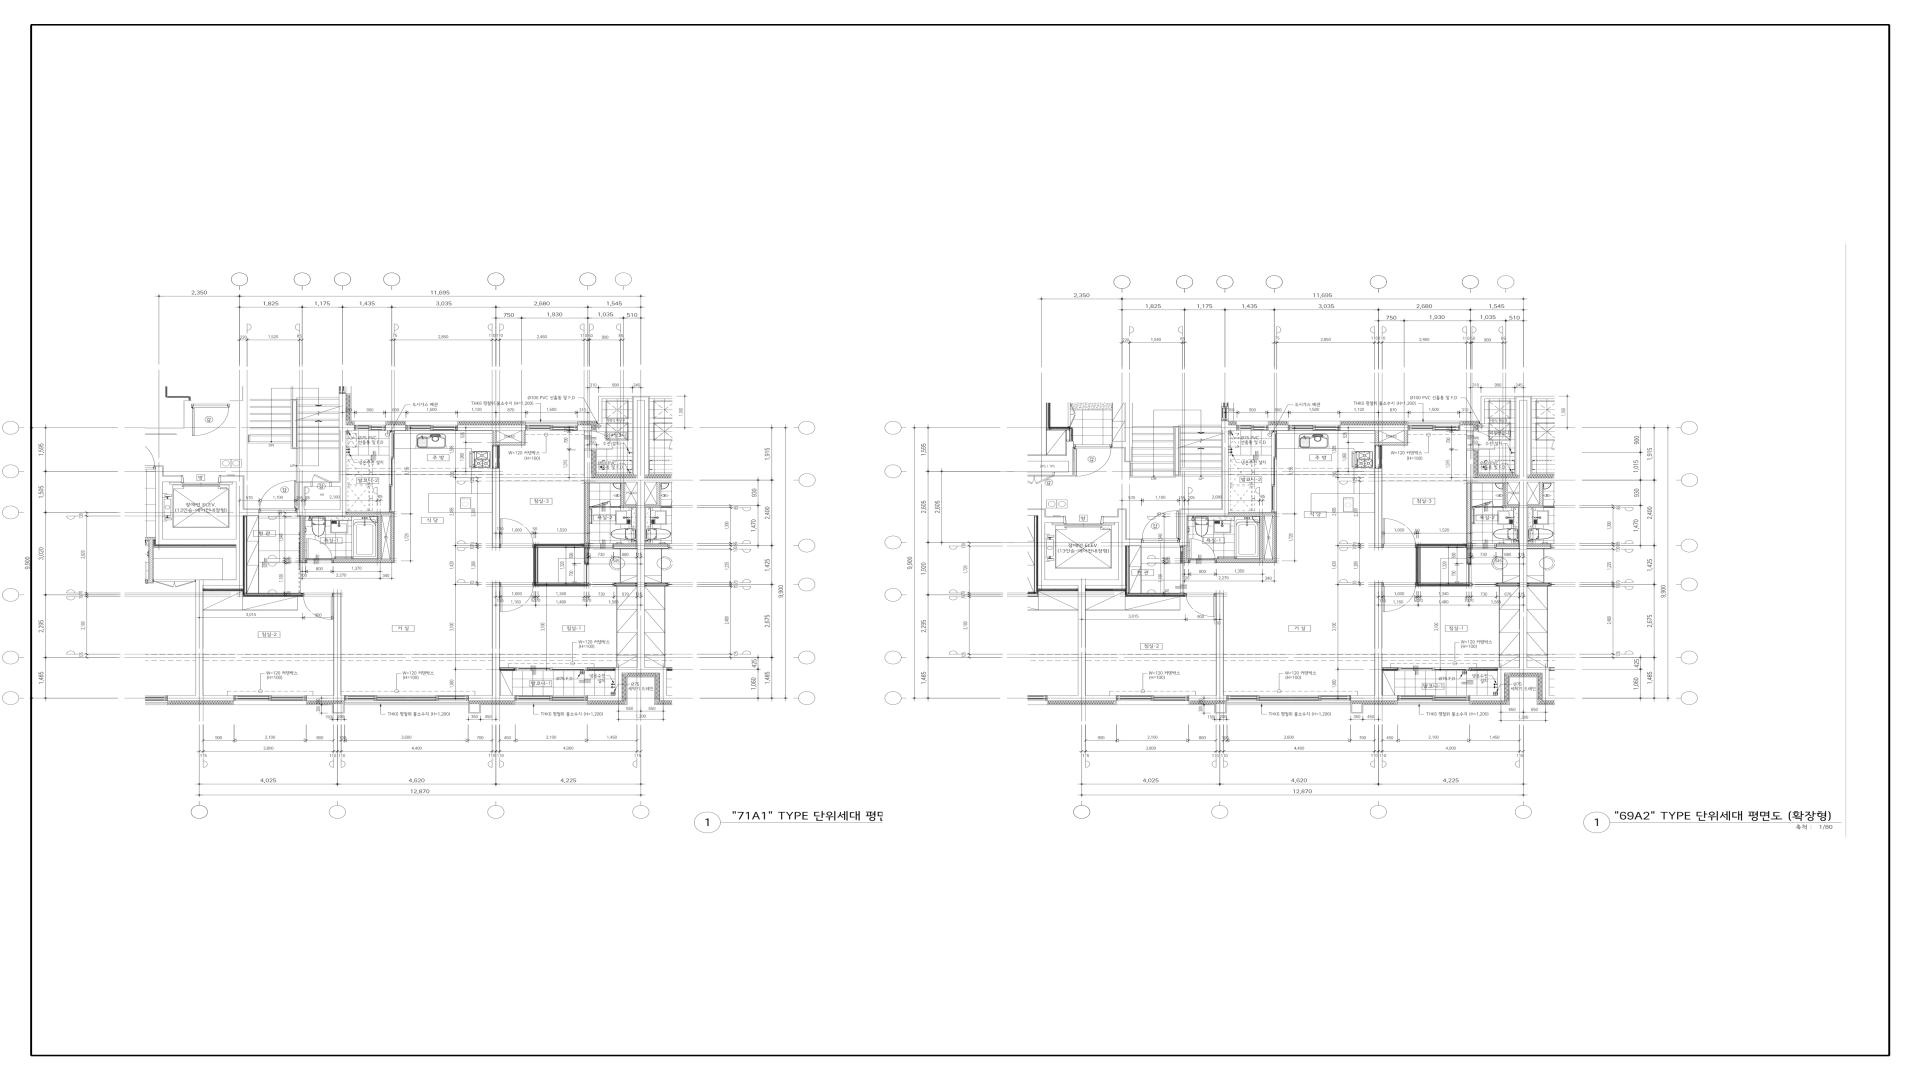door: (1073, 442, 1112, 477), (1142, 510, 1180, 546), (191, 401, 229, 435), (258, 480, 297, 513), (500, 583, 534, 612), (500, 518, 534, 547), (1382, 583, 1416, 612), (1382, 518, 1416, 547), (1184, 593, 1216, 622), (302, 593, 334, 622), (306, 538, 332, 563), (584, 430, 613, 450), (1466, 430, 1495, 450), (1271, 430, 1278, 512), (1188, 541, 1212, 563), (389, 431, 394, 512), (153, 580, 195, 588), (516, 667, 587, 671), (311, 473, 330, 487), (588, 583, 637, 587), (1466, 547, 1472, 583), (1472, 583, 1519, 587), (591, 500, 611, 508), (1474, 500, 1494, 508), (584, 547, 588, 584), (1473, 543, 1495, 547), (591, 543, 613, 547)
wall: (243, 516, 302, 596), (1027, 509, 1077, 585), (1125, 546, 1184, 597), (1523, 396, 1557, 480), (1212, 516, 1273, 563), (1470, 667, 1555, 700), (588, 667, 673, 700), (588, 673, 673, 705), (641, 396, 674, 480), (332, 516, 390, 563), (1228, 512, 1276, 563), (345, 512, 394, 563), (534, 543, 589, 585), (162, 516, 243, 545), (1415, 547, 1472, 587), (156, 465, 181, 545), (340, 393, 355, 516), (1466, 450, 1519, 483), (584, 450, 637, 483), (203, 545, 243, 585), (1027, 442, 1073, 476), (145, 401, 191, 435), (1085, 546, 1125, 585), (220, 475, 258, 516), (1221, 421, 1237, 516), (1104, 509, 1142, 546), (1519, 508, 1527, 667), (637, 508, 645, 667), (1112, 402, 1133, 462), (330, 393, 343, 487), (229, 386, 251, 435), (596, 396, 633, 423), (1480, 396, 1515, 423), (1077, 580, 1085, 695), (195, 580, 203, 695), (1374, 583, 1382, 695), (492, 583, 500, 695), (1216, 593, 1224, 695), (334, 593, 342, 695), (1515, 396, 1523, 480), (633, 396, 641, 480), (492, 468, 500, 547), (468, 700, 516, 713), (1350, 700, 1398, 713), (1374, 468, 1382, 547), (492, 430, 526, 446), (1375, 430, 1408, 446), (306, 700, 344, 713), (1188, 700, 1226, 713), (145, 538, 156, 583), (1050, 695, 1116, 702), (167, 695, 233, 702), (1466, 483, 1473, 547), (584, 483, 591, 547), (298, 481, 311, 510), (1527, 483, 1543, 506), (621, 483, 637, 506), (645, 483, 661, 506), (1340, 425, 1408, 430), (458, 425, 526, 430), (1505, 483, 1519, 506), (1174, 426, 1180, 476), (291, 400, 298, 448), (299, 516, 306, 563), (345, 393, 355, 425), (1179, 509, 1222, 516), (297, 509, 340, 516), (458, 421, 526, 425), (1221, 421, 1225, 487), (167, 702, 233, 705), (1188, 695, 1226, 702), (306, 695, 344, 702), (1350, 695, 1398, 700), (468, 695, 516, 700), (1179, 516, 1187, 546), (1519, 480, 1527, 508), (637, 480, 645, 508), (1415, 543, 1466, 547), (578, 421, 596, 431), (385, 425, 406, 431), (1269, 425, 1288, 431), (587, 667, 616, 671), (1469, 667, 1498, 671), (1527, 543, 1552, 547), (645, 543, 670, 547), (1460, 425, 1474, 431), (578, 425, 592, 431), (1495, 543, 1519, 547), (613, 543, 637, 547), (1183, 546, 1188, 563), (385, 421, 406, 425), (1527, 480, 1557, 483), (645, 480, 674, 483), (500, 667, 516, 671), (1382, 667, 1398, 671), (497, 446, 500, 468), (611, 506, 621, 508), (1494, 506, 1503, 508), (1472, 506, 1474, 508), (589, 506, 591, 508)
window: (1226, 695, 1350, 700), (344, 695, 468, 700), (1116, 695, 1188, 702), (233, 695, 306, 702), (1398, 695, 1470, 700), (516, 695, 588, 700), (1408, 425, 1460, 431), (526, 425, 578, 431), (1288, 425, 1340, 430), (406, 425, 458, 430), (1237, 425, 1269, 431), (355, 425, 385, 431), (1379, 446, 1382, 468)
